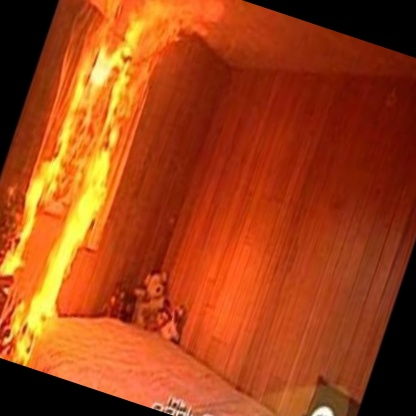fire: (0, 0, 220, 375)
